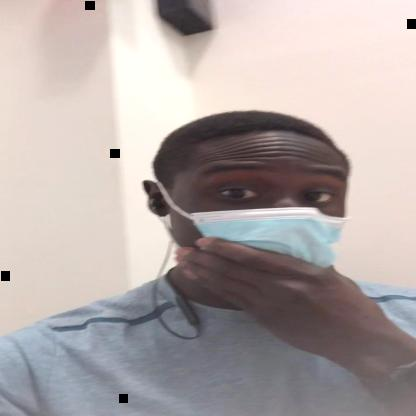mask: (159, 144, 349, 280)
